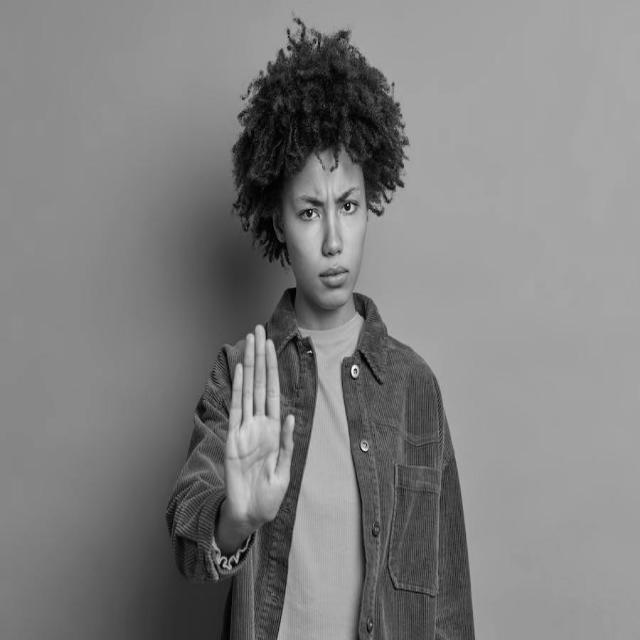stop: (222, 317, 298, 535)
